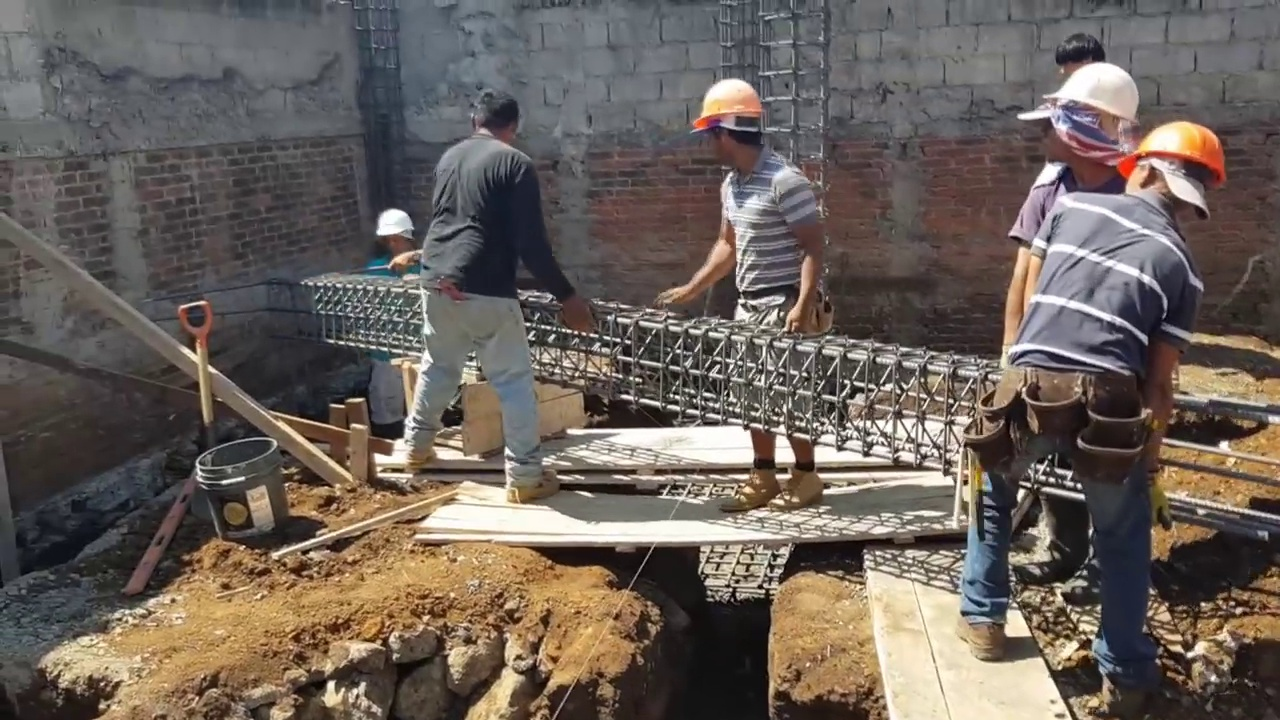helmet: (1118, 120, 1230, 185), (1041, 62, 1143, 127), (692, 74, 766, 127), (374, 206, 415, 238)
helmet-off: (470, 85, 521, 144), (1055, 34, 1110, 84)
helmet-on: (1016, 59, 1142, 194), (1117, 118, 1232, 220), (688, 73, 765, 174), (374, 205, 418, 258)
person: (952, 115, 1233, 686), (403, 84, 603, 507), (650, 74, 833, 517), (998, 55, 1141, 352), (363, 204, 421, 437)
